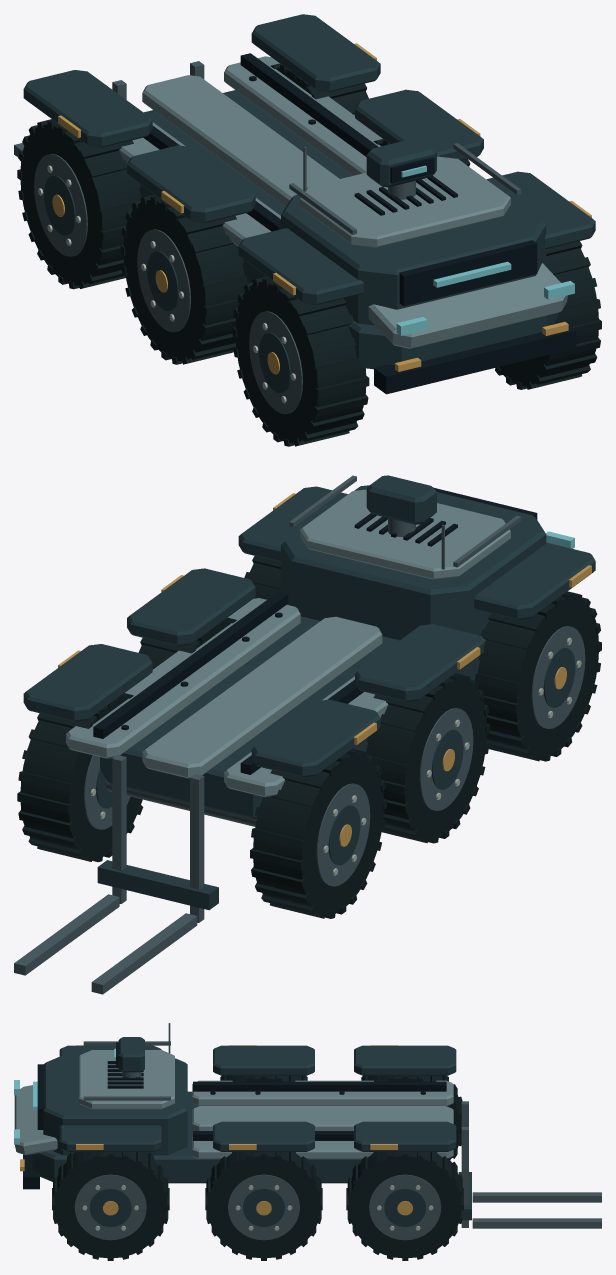
The model's file is hauler_d0_lod0.glb.
3 renders of one model, top to bottom at view 1: azimuth 30°, elevation 25°; view 2: azimuth 150°, elevation 25°; view 3: azimuth 270°, elevation 25°, orthographic. The views are drawn at different scales.
Parts seen in each view (by area): view 1: HAULER_CHASSIS, WHEEL_L_FRONT_MESH, WHEEL_L_MID_MESH, WHEEL_L_REAR_MESH, WHEEL_R_FRONT_MESH, SENSOR_HEAD, WHEEL_R_REAR_MESH; view 2: HAULER_CHASSIS, WHEEL_L_REAR_MESH, WHEEL_L_FRONT_MESH, WHEEL_L_MID_MESH, WHEEL_R_REAR_MESH, LIFT_FORKS, LIFT_RAILS, SENSOR_HEAD, WHEEL_R_MID_MESH, WHEEL_R_FRONT_MESH; view 3: HAULER_CHASSIS, WHEEL_R_FRONT_MESH, WHEEL_R_REAR_MESH, WHEEL_R_MID_MESH, LIFT_FORKS, SENSOR_HEAD, WHEEL_L_REAR_MESH, LIFT_RAILS, WHEEL_L_MID_MESH.
Boxes of the visible parts, box(x1,y1,x2,y2) form: HAULER_CHASSIS: box(23, 14, 595, 394); WHEEL_L_FRONT_MESH: box(232, 276, 369, 446); WHEEL_L_MID_MESH: box(120, 194, 247, 364); WHEEL_L_REAR_MESH: box(17, 119, 141, 289); WHEEL_R_FRONT_MESH: box(495, 241, 601, 389); SENSOR_HEAD: box(366, 138, 436, 199); WHEEL_R_REAR_MESH: box(270, 63, 368, 115); HAULER_CHASSIS: box(23, 475, 595, 826); WHEEL_L_REAR_MESH: box(250, 748, 386, 918); WHEEL_L_FRONT_MESH: box(475, 591, 601, 761); WHEEL_L_MID_MESH: box(366, 673, 489, 843); WHEEL_R_REAR_MESH: box(17, 693, 143, 862); LIFT_FORKS: box(14, 860, 218, 994); LIFT_RAILS: box(112, 755, 204, 922); SENSOR_HEAD: box(366, 475, 436, 536); WHEEL_R_MID_MESH: box(138, 617, 236, 669); WHEEL_R_FRONT_MESH: box(244, 556, 280, 599); HAULER_CHASSIS: box(14, 1023, 456, 1189); WHEEL_R_FRONT_MESH: box(52, 1152, 169, 1260); WHEEL_R_REAR_MESH: box(346, 1152, 463, 1260); WHEEL_R_MID_MESH: box(205, 1152, 322, 1260); LIFT_FORKS: box(458, 1172, 601, 1228); SENSOR_HEAD: box(114, 1037, 144, 1077); WHEEL_L_REAR_MESH: box(361, 1075, 462, 1159); LIFT_RAILS: box(461, 1101, 468, 1227); WHEEL_L_MID_MESH: box(220, 1075, 307, 1081).
Bounding box in the file's own units: 3.93 × 3.09 × 9.79.
